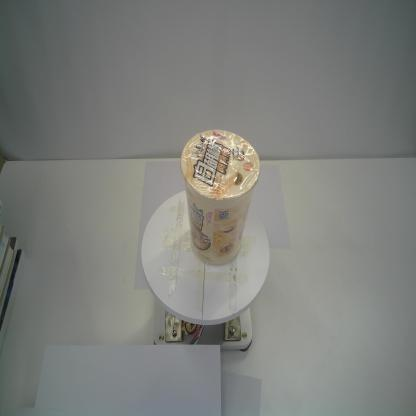Instant Noodles: (178, 126, 261, 268)
